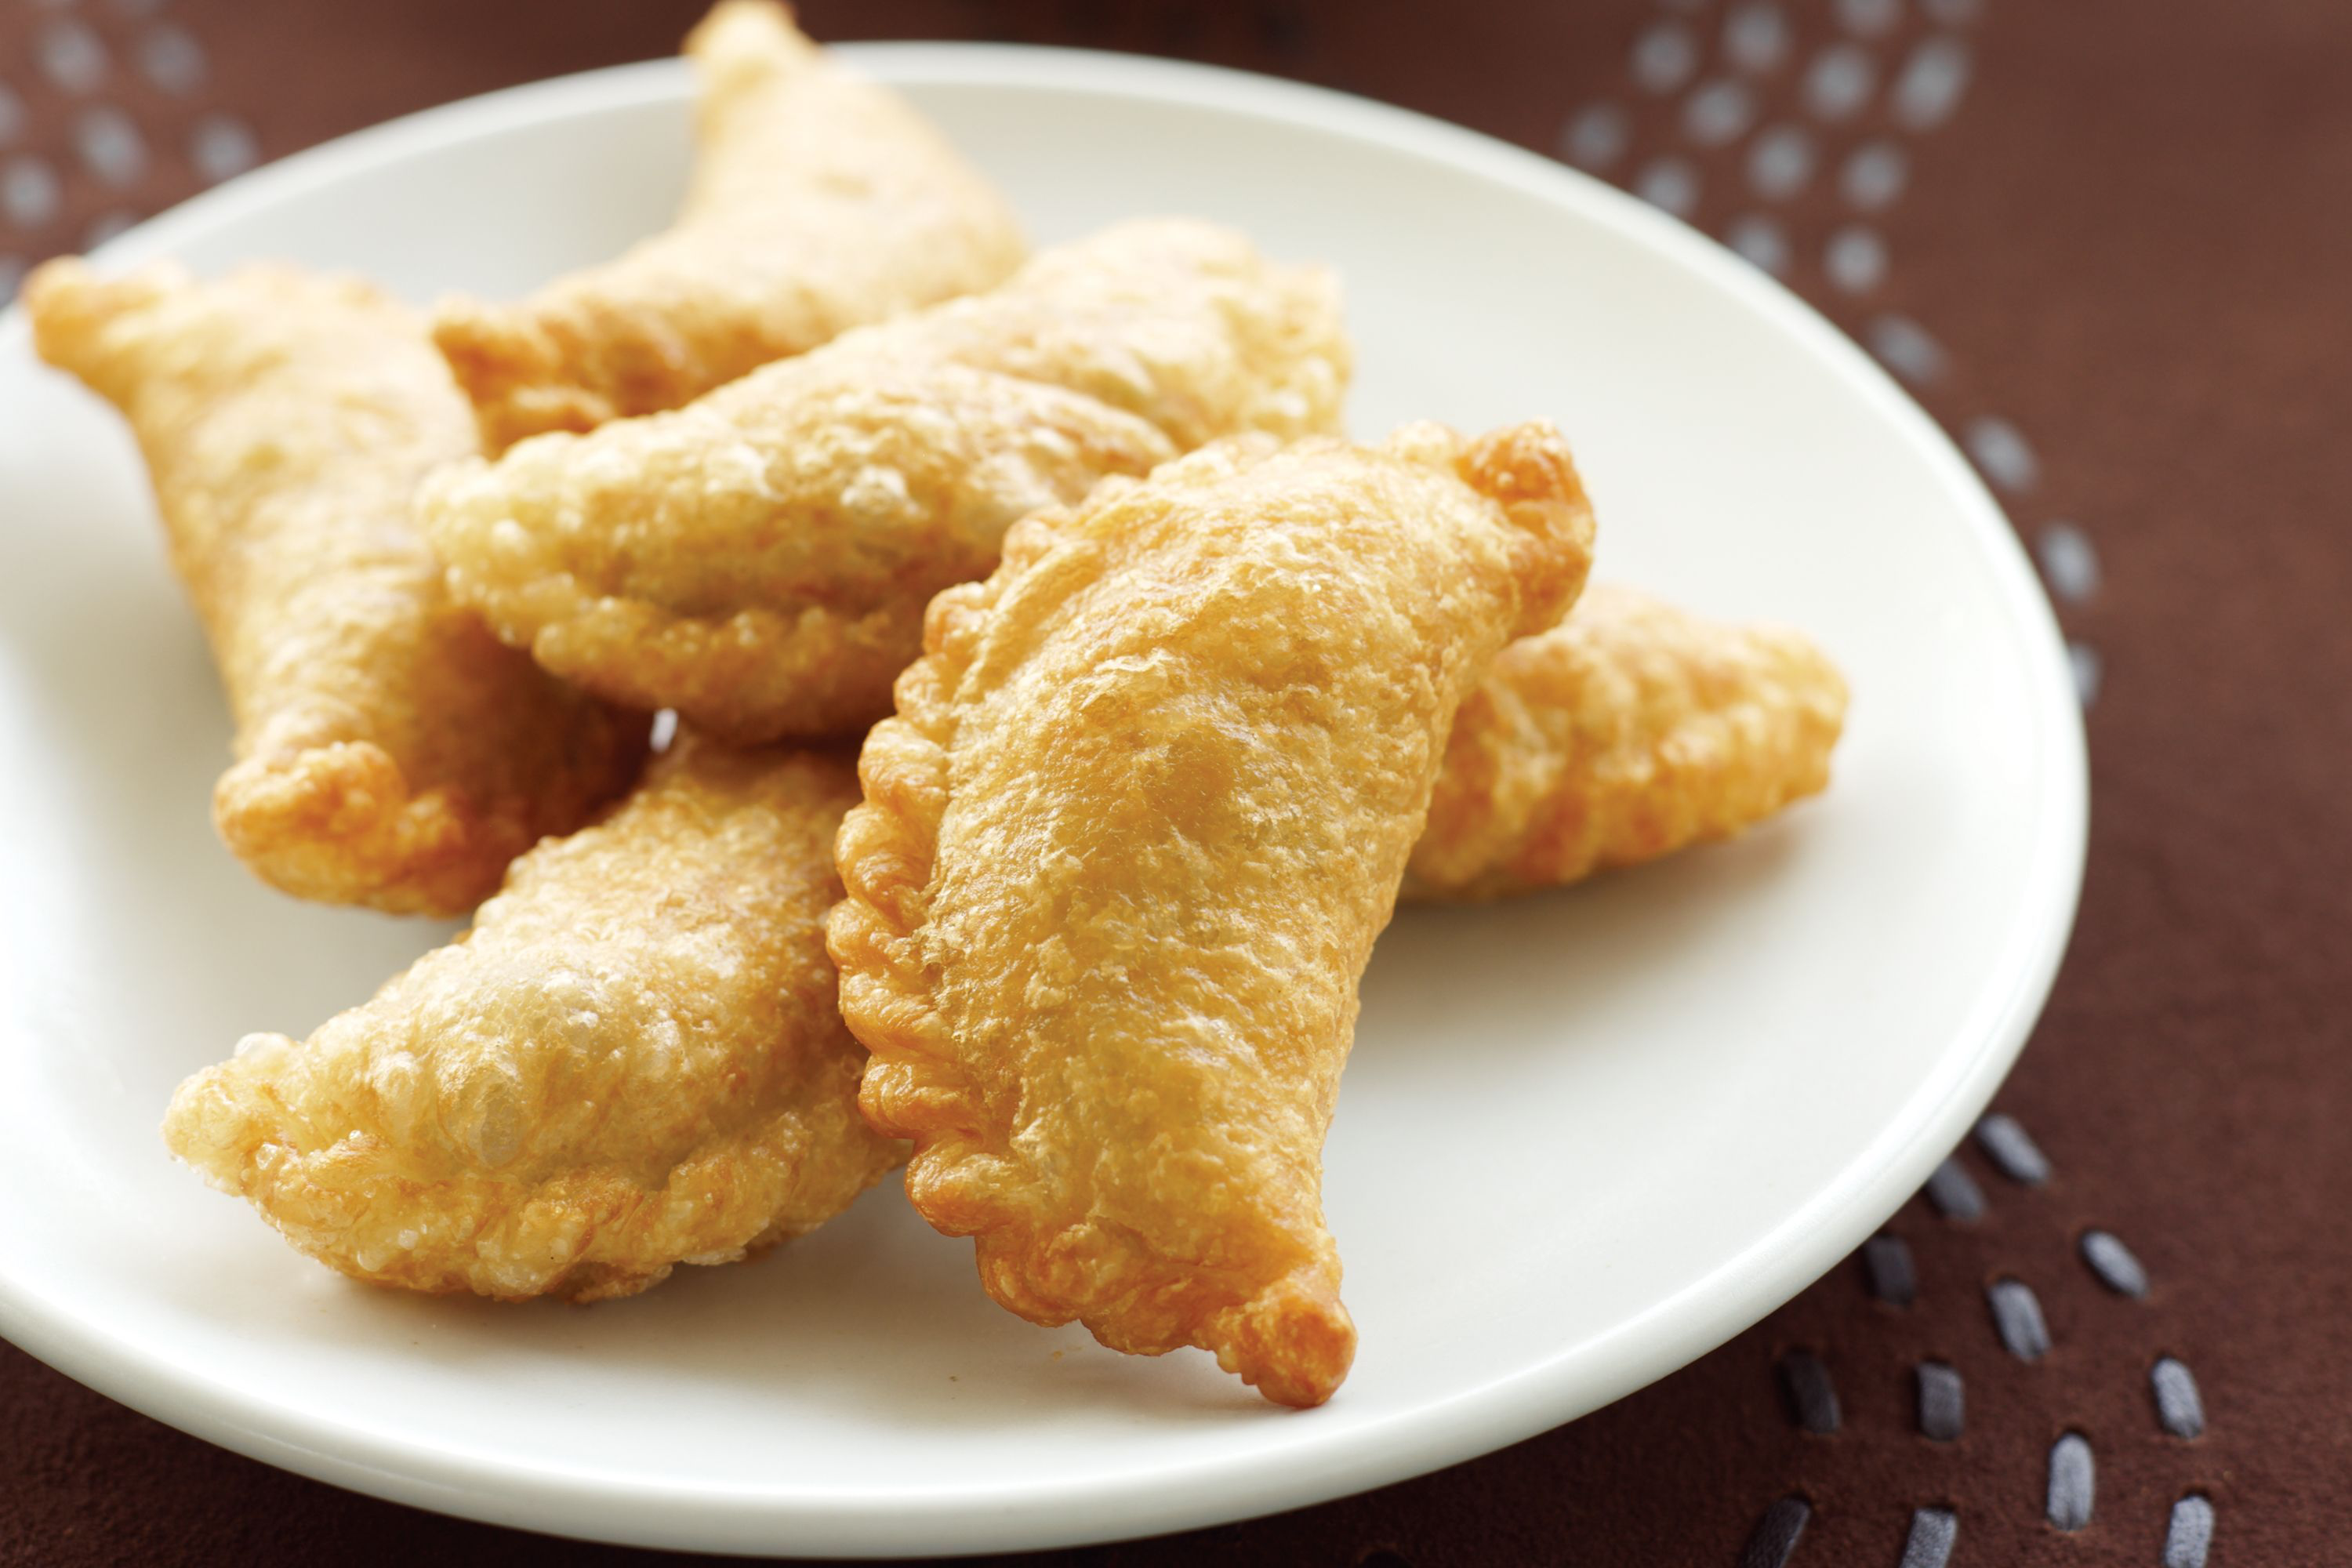Curry Puff: (886, 374, 1622, 1400), (156, 717, 966, 1333), (464, 203, 1349, 747), (16, 191, 665, 877), (425, 30, 1048, 436)
